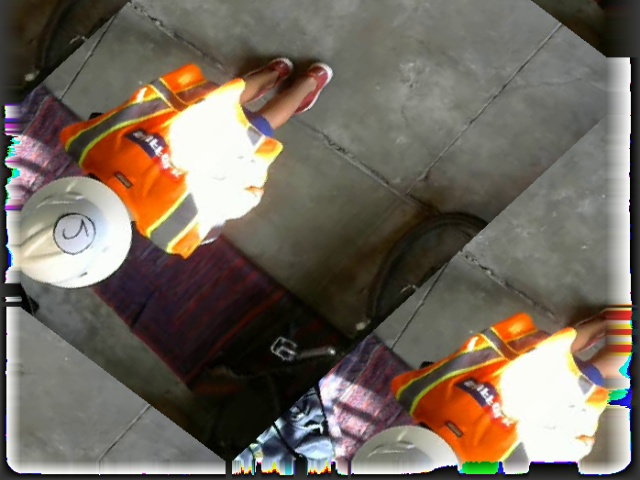two: (44, 204, 103, 263)
